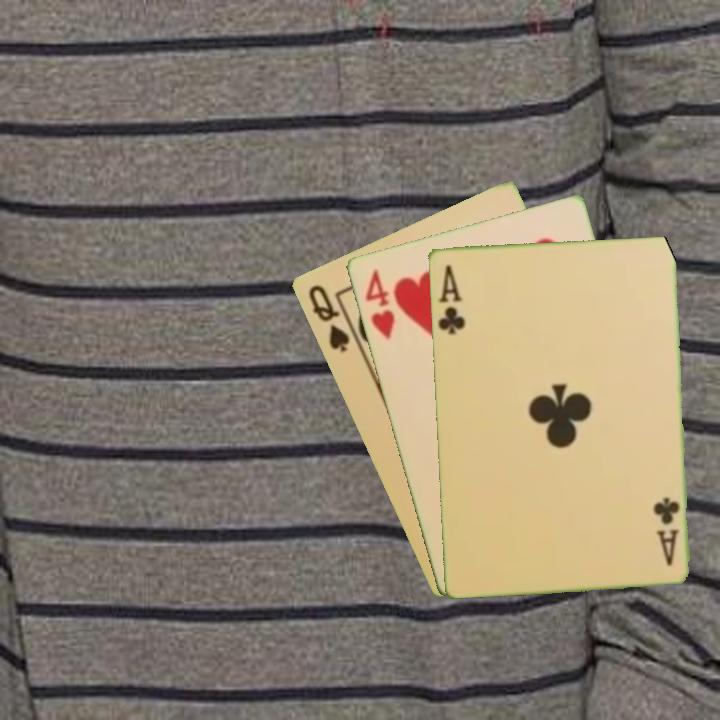4h: (361, 265, 397, 343)
Ac: (434, 261, 468, 337), (649, 493, 682, 568)
Qs: (304, 281, 353, 355)
